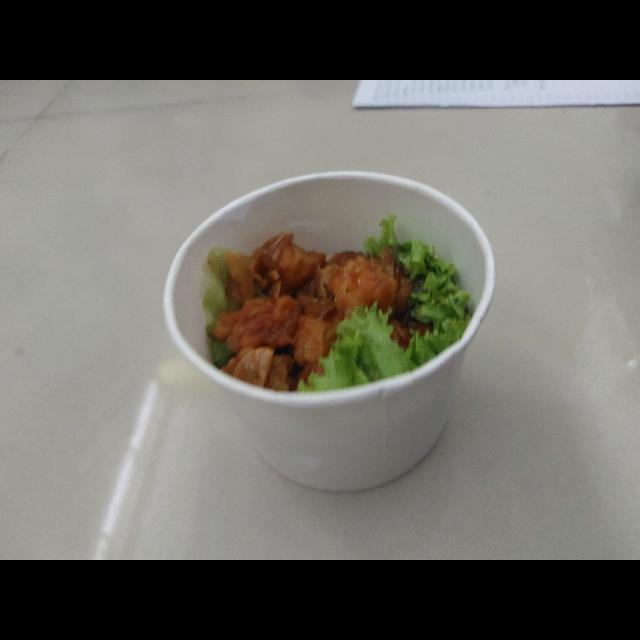rice-bowl: (154, 153, 508, 503)
